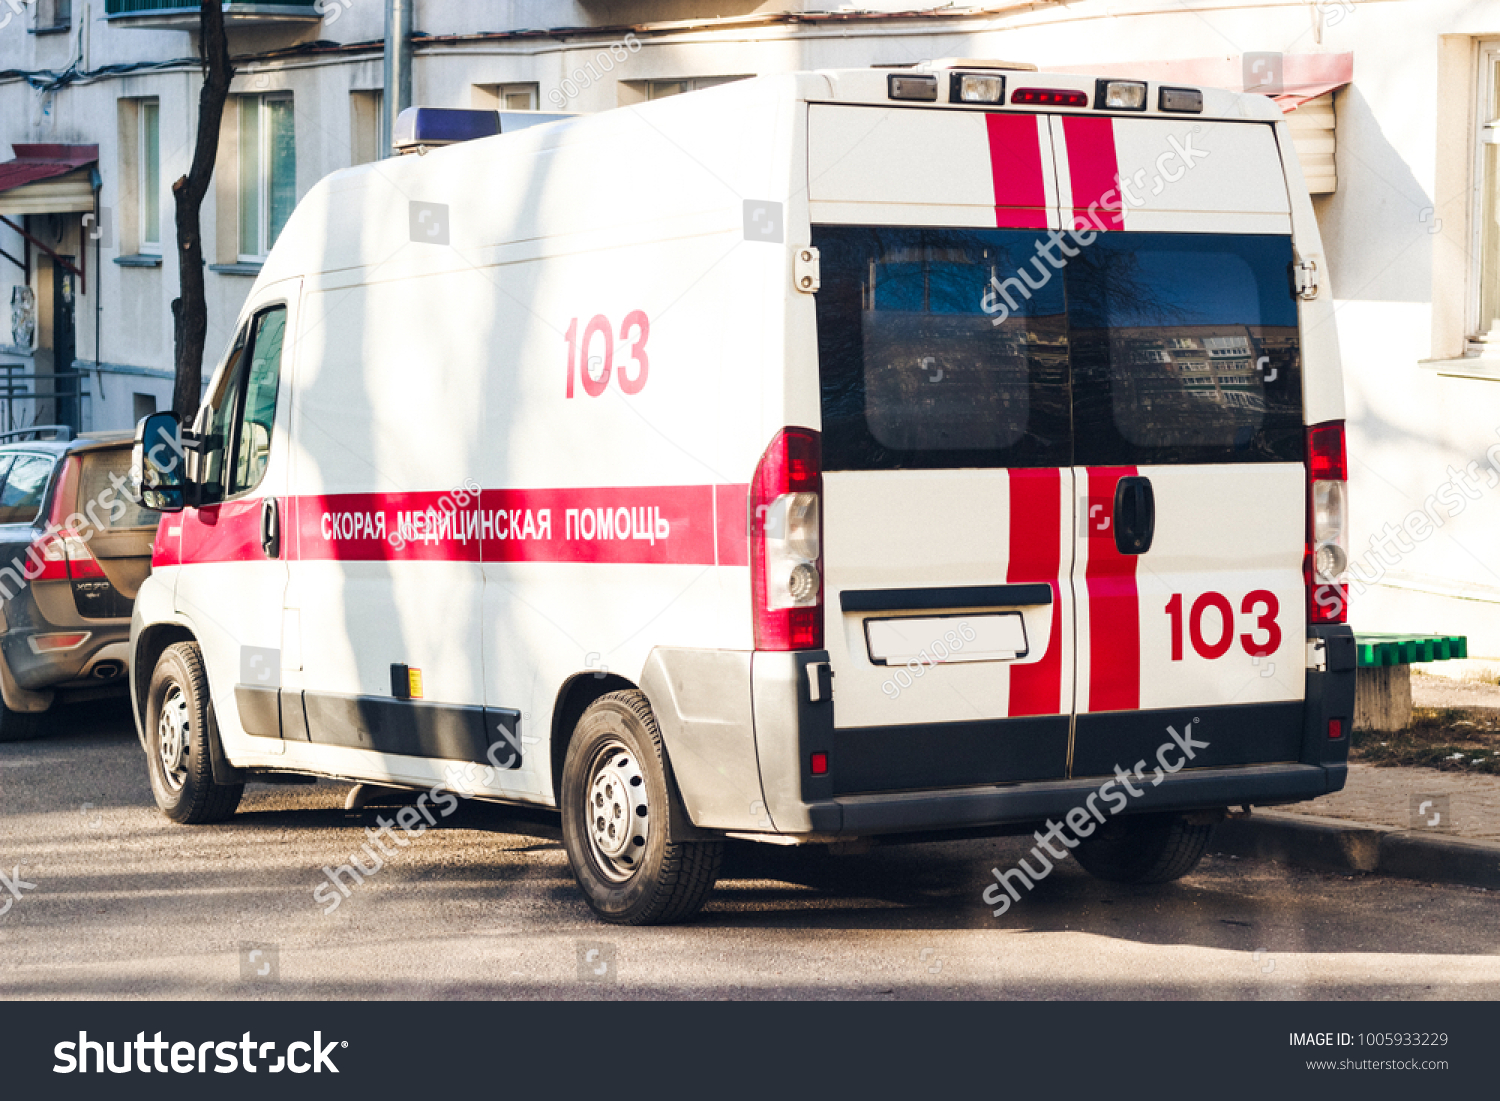special: (129, 58, 1354, 934)
